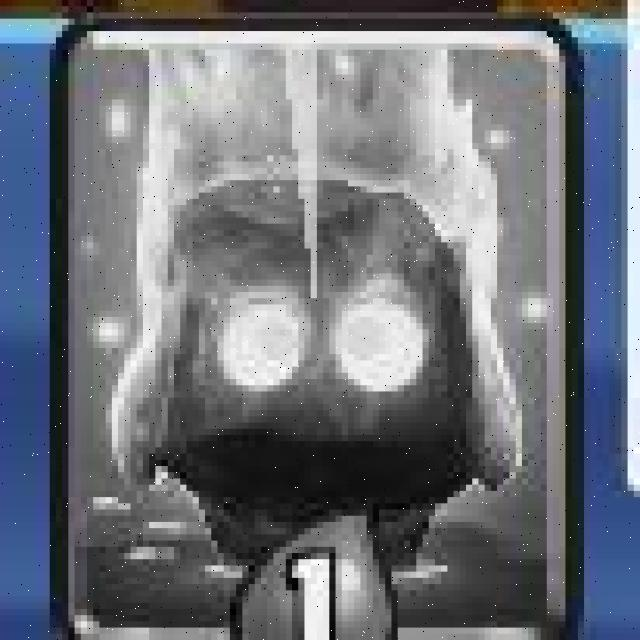Fire_Spirit: (41, 20, 581, 640)
